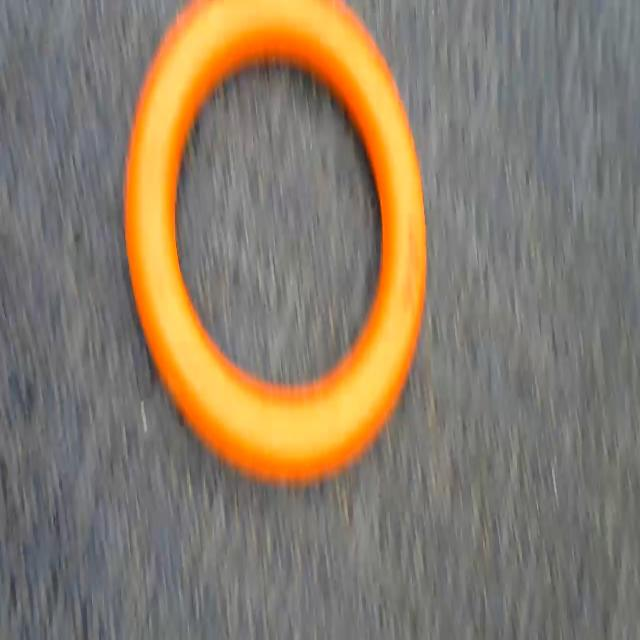note: (116, 0, 438, 512)
